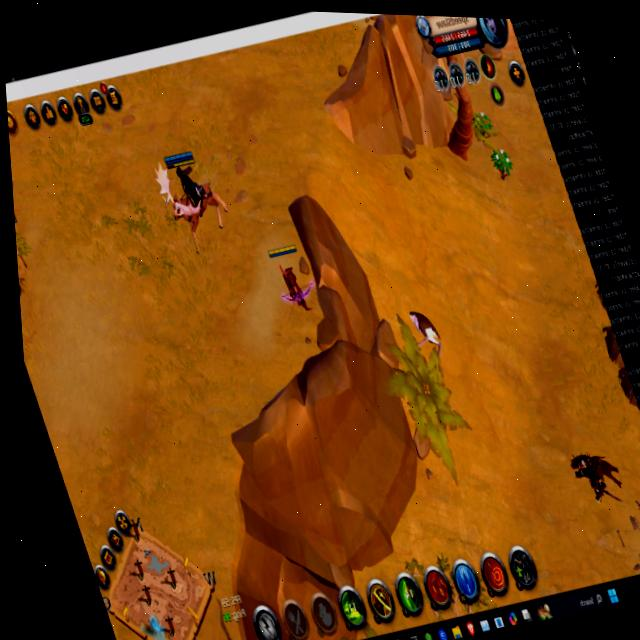hide: (487, 143, 516, 179), (468, 107, 495, 139)
mob: (400, 299, 451, 368)
ore: (564, 439, 630, 511)
red: (147, 142, 219, 234), (264, 237, 319, 312)
